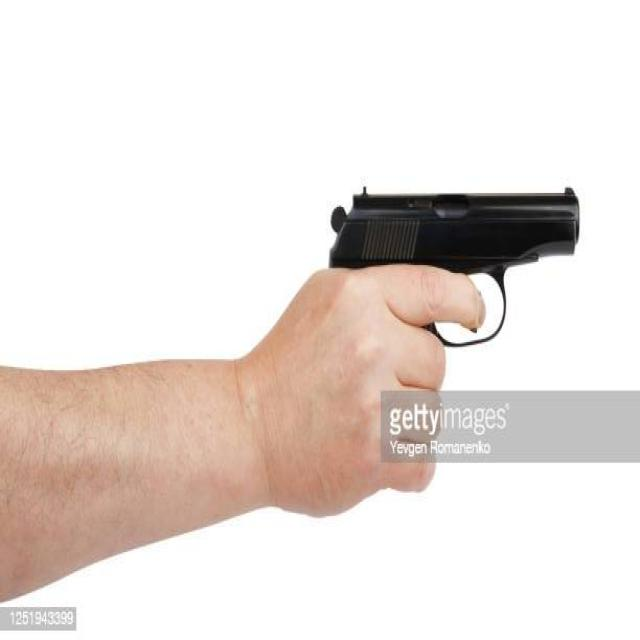HandGun: (328, 187, 579, 348)
